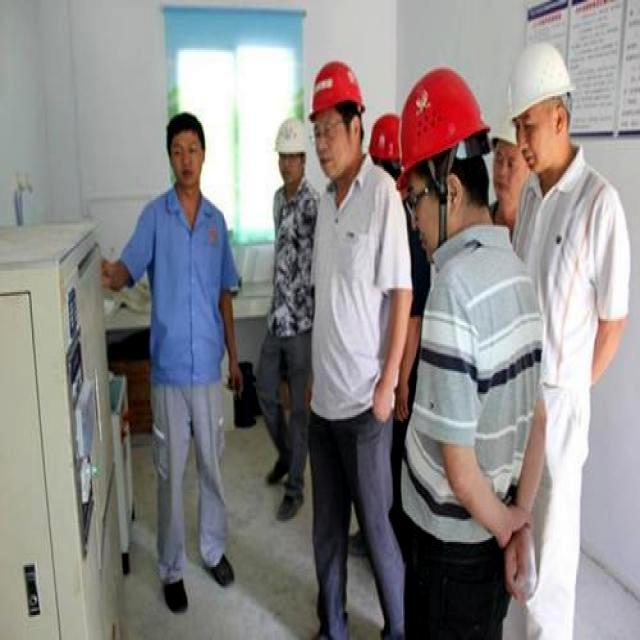hard_hat: (401, 67, 489, 171), (509, 42, 576, 119), (311, 62, 364, 115), (370, 113, 399, 169), (493, 110, 517, 165), (275, 117, 308, 156)
no_head_wear: (166, 111, 204, 158)
person: (401, 67, 544, 638), (504, 42, 630, 638), (102, 111, 241, 611), (308, 62, 411, 638), (259, 119, 316, 519), (493, 115, 529, 234)
